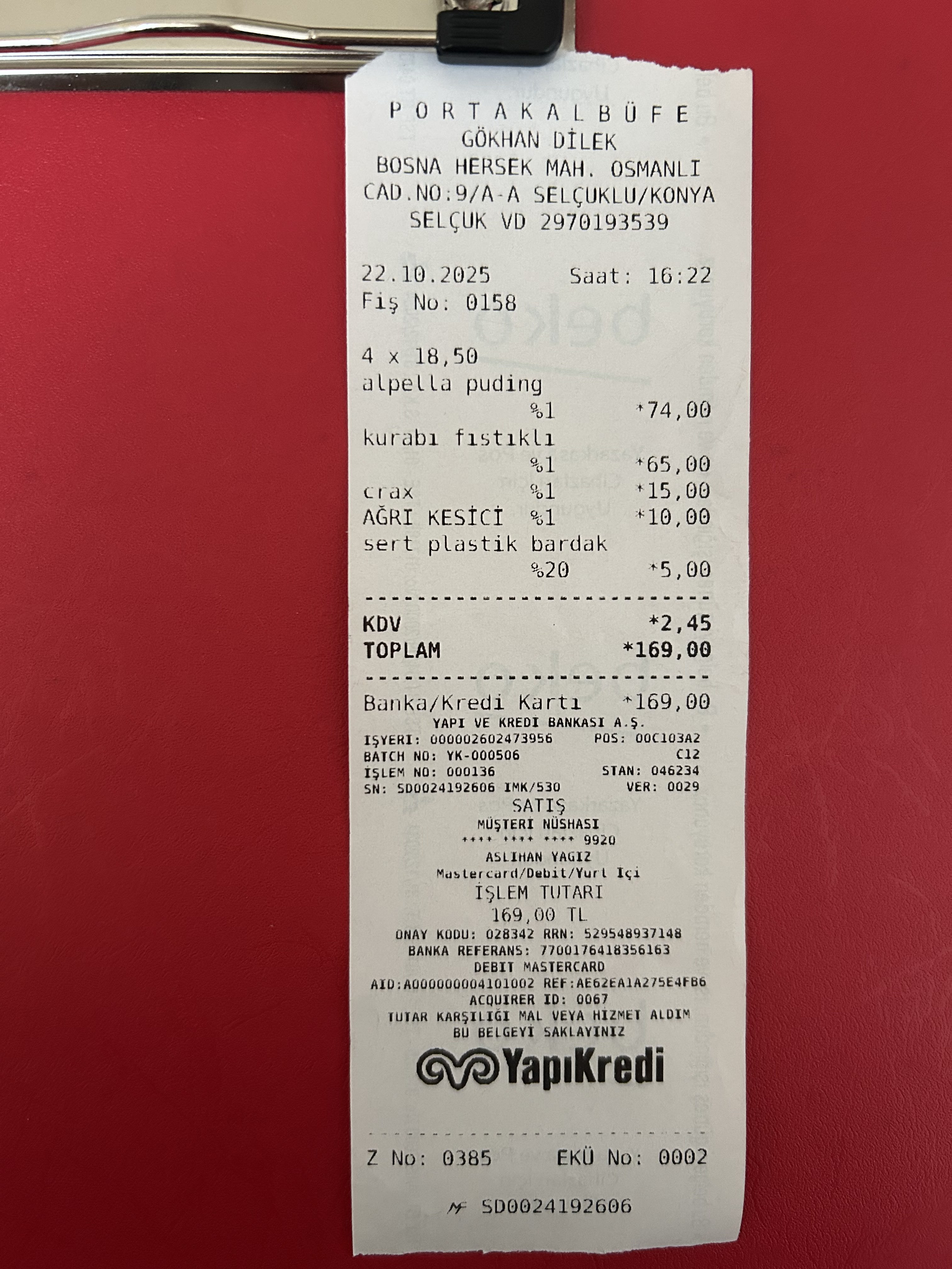date: (632, 634, 715, 666)
price: (355, 257, 498, 291)
workplace: (355, 93, 732, 209)
